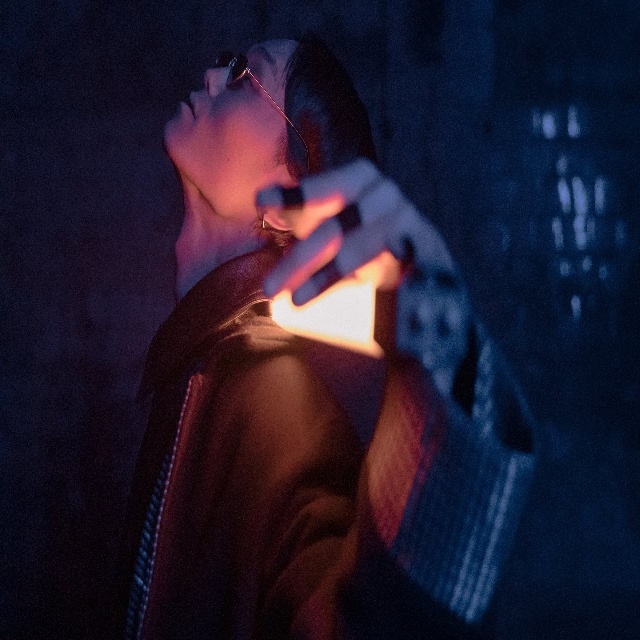Gafas: (212, 49, 310, 170)
Sin_guantes: (259, 159, 459, 316)
